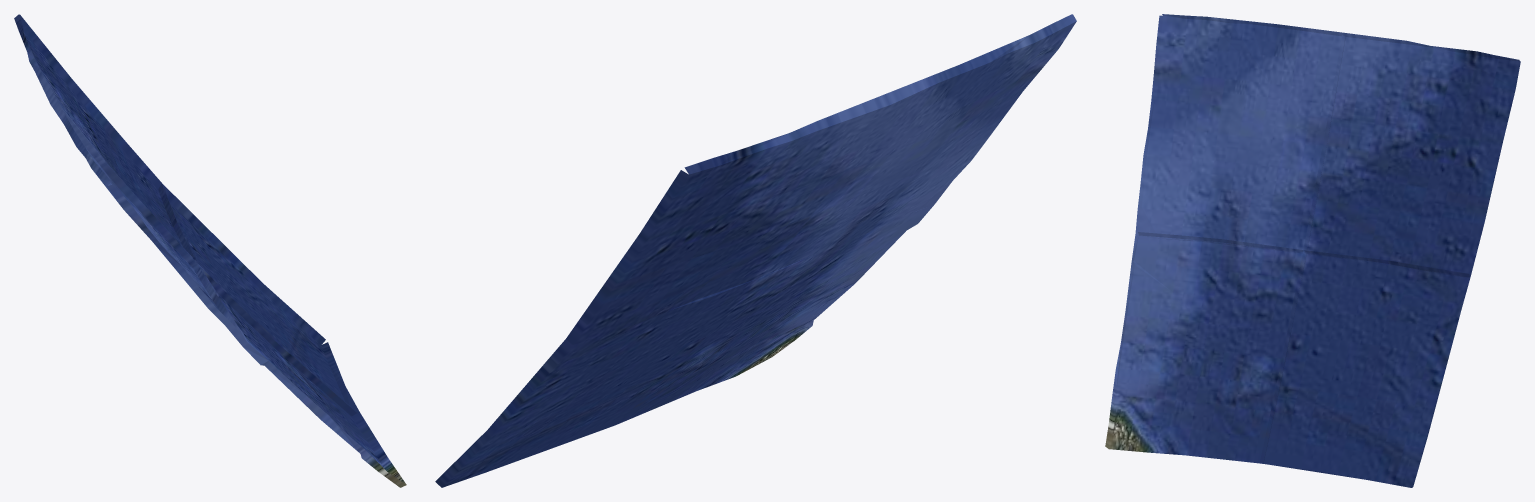
3 views of the same model, side by side, from view 1: azimuth 30°, elevation 25°; view 2: azimuth 150°, elevation 25°; view 3: azimuth 270°, elevation 25° (orthographic). The views are drawn at different scales.
Bounding box in the file's own units: 1053151 × 987435 × 1160557.
Materials: 1 (1 with a texture image).
